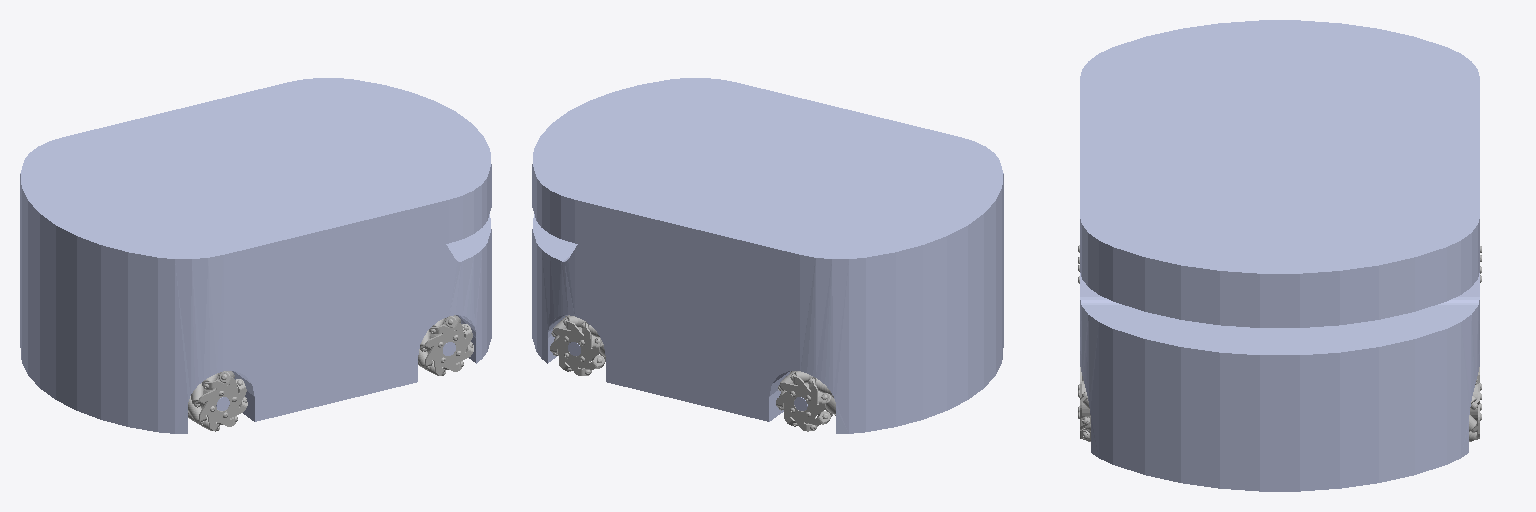
URDF robot description (robot_transporter):
<?xml version="1.0" encoding="utf-8"?>
<!-- This URDF was automatically created by SolidWorks to URDF Exporter! Originally created by [author] ([email redacted]) 
     Commit Version: 1.6.0-4-g7f85cfe  Build Version: 1.6.7995.38578
     For more information, please see http://wiki.ros.org/sw_urdf_exporter -->
<robot
  name="robot_transporter">
  <link
    name="base_link">
    <inertial>
      <origin
        xyz="-0.00560006666726523 8.5932911635727E-08 0.121693775411523"
        rpy="0 0 0" />
      <mass
        value="48.75146579928" />
      <inertia
        ixx="0.794048932779582"
        ixy="1.25447091974959E-06"
        ixz="0.0119145515345586"
        iyy="1.41634392022713"
        iyz="-3.41804588263661E-07"
        izz="1.74512398008005" />
    </inertial>
    <visual>
      <origin
        xyz="0 0 0"
        rpy="0 0 0" />
      <geometry>
        <mesh
          filename="package://robot_transporter/meshes/base_link.STL" />
      </geometry>
      <material
        name="">
        <color
          rgba="0.792156862745098 0.819607843137255 0.933333333333333 1" />
      </material>
    </visual>
    <collision>
      <origin
        xyz="0 0 0"
        rpy="0 0 0" />
      <geometry>
        <mesh
          filename="package://robot_transporter/meshes/base_link.STL" />
      </geometry>
    </collision>
  </link>
  <link
    name="front_wl">
    <inertial>
      <origin
        xyz="0.1625 0.178233410060357 0.0350000000000003"
        rpy="0 0 0" />
      <mass
        value="0.120099701259178" />
      <inertia
        ixx="2.22061106760528E-05"
        ixy="7.64883947486343E-19"
        ixz="4.68289760087774E-19"
        iyy="2.68970104758221E-05"
        iyz="-1.88218124146388E-19"
        izz="2.22061106760443E-05" />
    </inertial>
    <visual>
      <origin
        xyz="0 0 0"
        rpy="0 0 0" />
      <geometry>
        <mesh
          filename="package://robot_transporter/meshes/front_wl.STL" />
      </geometry>
      <material
        name="">
        <color
          rgba="0.752941176470588 0.752941176470588 0.752941176470588 1" />
      </material>
    </visual>
    <collision>
      <origin
        xyz="0 0 0"
        rpy="0 0 0" />
      <geometry>
        <mesh
          filename="package://robot_transporter/meshes/front_wl.STL" />
      </geometry>
    </collision>
  </link>
  <joint
    name="front_jl"
    type="revolute">
    <origin
      xyz="0 0 0"
      rpy="0 0 0" />
    <parent
      link="base_link" />
    <child
      link="front_wl" />
    <axis
      xyz="0 1 0" />
    <limit
      lower="0"
      upper="0"
      effort="0"
      velocity="0" />
  </joint>
  <link
    name="rear_wl">
    <inertial>
      <origin
        xyz="-0.162499999999998 0.178233410060241 0.0350000000000002"
        rpy="0 0 0" />
      <mass
        value="0.120099701259467" />
      <inertia
        ixx="2.22061106759925E-05"
        ixy="9.03898858175671E-19"
        ixz="1.39368082721999E-18"
        iyy="2.68970104757779E-05"
        iyz="-8.38259559484833E-18"
        izz="2.22061106759824E-05" />
    </inertial>
    <visual>
      <origin
        xyz="0 0 0"
        rpy="0 0 0" />
      <geometry>
        <mesh
          filename="package://robot_transporter/meshes/rear_wl.STL" />
      </geometry>
      <material
        name="">
        <color
          rgba="0.752941176470588 0.752941176470588 0.752941176470588 1" />
      </material>
    </visual>
    <collision>
      <origin
        xyz="0 0 0"
        rpy="0 0 0" />
      <geometry>
        <mesh
          filename="package://robot_transporter/meshes/rear_wl.STL" />
      </geometry>
    </collision>
  </link>
  <joint
    name="rear_jl"
    type="revolute">
    <origin
      xyz="0 0 0"
      rpy="0 0 0" />
    <parent
      link="base_link" />
    <child
      link="rear_wl" />
    <axis
      xyz="0 1 0" />
    <limit
      lower="0"
      upper="0"
      effort="0"
      velocity="0" />
  </joint>
  <link
    name="front_wr">
    <inertial>
      <origin
        xyz="0.1625 -0.178233410060722 0.0349999999999997"
        rpy="0 0 0" />
      <mass
        value="0.120099701250462" />
      <inertia
        ixx="2.22061106760935E-05"
        ixy="-6.701208466275E-18"
        ixz="3.45509640230158E-18"
        iyy="2.68970104756202E-05"
        iyz="1.98382027082481E-18"
        izz="2.22061106760878E-05" />
    </inertial>
    <visual>
      <origin
        xyz="0 0 0"
        rpy="0 0 0" />
      <geometry>
        <mesh
          filename="package://robot_transporter/meshes/front_wr.STL" />
      </geometry>
      <material
        name="">
        <color
          rgba="0.752941176470588 0.752941176470588 0.752941176470588 1" />
      </material>
    </visual>
    <collision>
      <origin
        xyz="0 0 0"
        rpy="0 0 0" />
      <geometry>
        <mesh
          filename="package://robot_transporter/meshes/front_wr.STL" />
      </geometry>
    </collision>
  </link>
  <joint
    name="front_jr"
    type="revolute">
    <origin
      xyz="0 0 0"
      rpy="0 0 0" />
    <parent
      link="base_link" />
    <child
      link="front_wr" />
    <axis
      xyz="0 -1 0" />
    <limit
      lower="0"
      upper="0"
      effort="0"
      velocity="0" />
  </joint>
  <link
    name="rear_wr">
    <inertial>
      <origin
        xyz="-0.1625 -0.178233410060774 0.0349999999999997"
        rpy="0 0 0" />
      <mass
        value="0.120099701249563" />
      <inertia
        ixx="2.22061106761304E-05"
        ixy="1.45645722957698E-19"
        ixz="-5.64896632961065E-19"
        iyy="2.68970104756355E-05"
        iyz="1.45435639244637E-17"
        izz="2.22061106761133E-05" />
    </inertial>
    <visual>
      <origin
        xyz="0 0 0"
        rpy="0 0 0" />
      <geometry>
        <mesh
          filename="package://robot_transporter/meshes/rear_wr.STL" />
      </geometry>
      <material
        name="">
        <color
          rgba="0.752941176470588 0.752941176470588 0.752941176470588 1" />
      </material>
    </visual>
    <collision>
      <origin
        xyz="0 0 0"
        rpy="0 0 0" />
      <geometry>
        <mesh
          filename="package://robot_transporter/meshes/rear_wr.STL" />
      </geometry>
    </collision>
  </link>
  <joint
    name="rear_jr"
    type="revolute">
    <origin
      xyz="0 0 0"
      rpy="0 0 0" />
    <parent
      link="base_link" />
    <child
      link="rear_wr" />
    <axis
      xyz="0 -1 0" />
    <limit
      lower="0"
      upper="0"
      effort="30"
      velocity="30" />
  </joint>
</robot>

--- Facts derived from the render (not from the file) ---
3 views of the same robot in one strip: view 1: azimuth 30°, elevation 25°; view 2: azimuth 150°, elevation 25°; view 3: azimuth 270°, elevation 25° (orthographic).
Robot: robot_transporter — 5 links, 4 joints (4 revolute); root link base_link; default pose: all joints at 0.
Links seen in each view (by area): view 1: base_link, rear_wr, front_wr; view 2: base_link, rear_wl, front_wl; view 3: base_link, front_wl, front_wr.
Boxes of the visible links, x1,y1,x2,y2 form: base_link: [20, 78, 491, 433]; rear_wr: [188, 371, 247, 431]; front_wr: [418, 315, 473, 375]; base_link: [532, 78, 1003, 433]; rear_wl: [776, 371, 835, 431]; front_wl: [550, 315, 605, 375]; base_link: [1080, 20, 1479, 491]; front_wl: [1469, 367, 1481, 441]; front_wr: [1078, 367, 1090, 441].
Size in the robot's own frame: 0.5984 by 0.4044 by 0.2454 metres.
Meshes: 5 distinct files referenced, 5 mesh visuals loaded (5 binary STL).